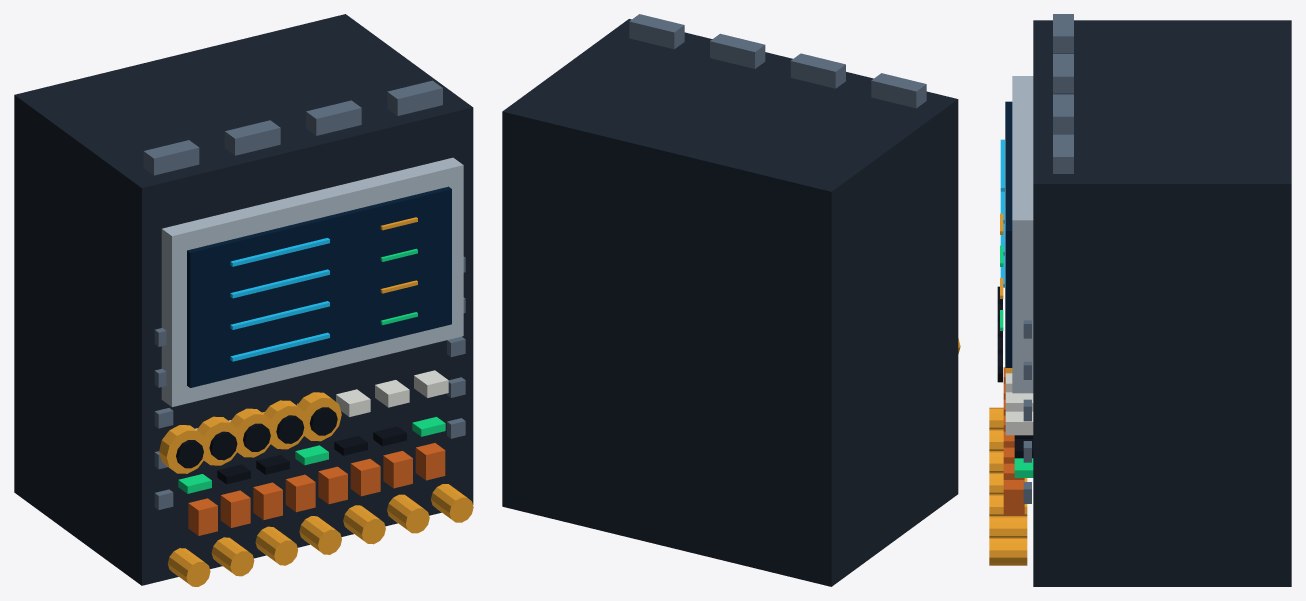
Rendered from 83_L87_GravityMachineEventRecorder.fbx.
3 renders of one model, left to right at view 1: azimuth 30°, elevation 25°; view 2: azimuth 150°, elevation 25°; view 3: azimuth 270°, elevation 25°, orthographic.
Visible parts, largest first — view 1: L87_GravityMachineEventRecorder, L87_GravityMachineEventRecorder_Part_0010, L87_GravityMachineEventRecorder_Part_0014, L87_GravityMachineEventRecorder_Part_0016, L87_GravityMachineEventRecorder_Part_0012, L87_GravityMachineEventRecorder_Part_0018, L87_GravityMachineEventRecorder_Part_0019, L87_GravityMachineEventRecorder_Part_0013, L87_GravityMachineEventRecorder_Part_0015, L87_GravityMachineEventRecorder_Part_0017, L87_GravityMachineEventRecorder_Part_0011; view 2: L87_GravityMachineEventRecorder; view 3: L87_GravityMachineEventRecorder.
Boxes of the visible parts, x1,y1,x2,y2 form: L87_GravityMachineEventRecorder: (14, 14, 473, 586); L87_GravityMachineEventRecorder_Part_0010: (159, 425, 207, 473); L87_GravityMachineEventRecorder_Part_0014: (230, 408, 274, 457); L87_GravityMachineEventRecorder_Part_0016: (263, 400, 308, 449); L87_GravityMachineEventRecorder_Part_0012: (197, 416, 241, 465); L87_GravityMachineEventRecorder_Part_0018: (297, 392, 341, 441); L87_GravityMachineEventRecorder_Part_0019: (309, 407, 337, 435); L87_GravityMachineEventRecorder_Part_0013: (209, 431, 237, 460); L87_GravityMachineEventRecorder_Part_0015: (243, 423, 270, 451); L87_GravityMachineEventRecorder_Part_0017: (276, 415, 304, 443); L87_GravityMachineEventRecorder_Part_0011: (176, 440, 203, 468); L87_GravityMachineEventRecorder: (502, 14, 958, 586); L87_GravityMachineEventRecorder: (989, 14, 1291, 586).
Bounding box in the file's own units: 104 × 124 × 81.09.
